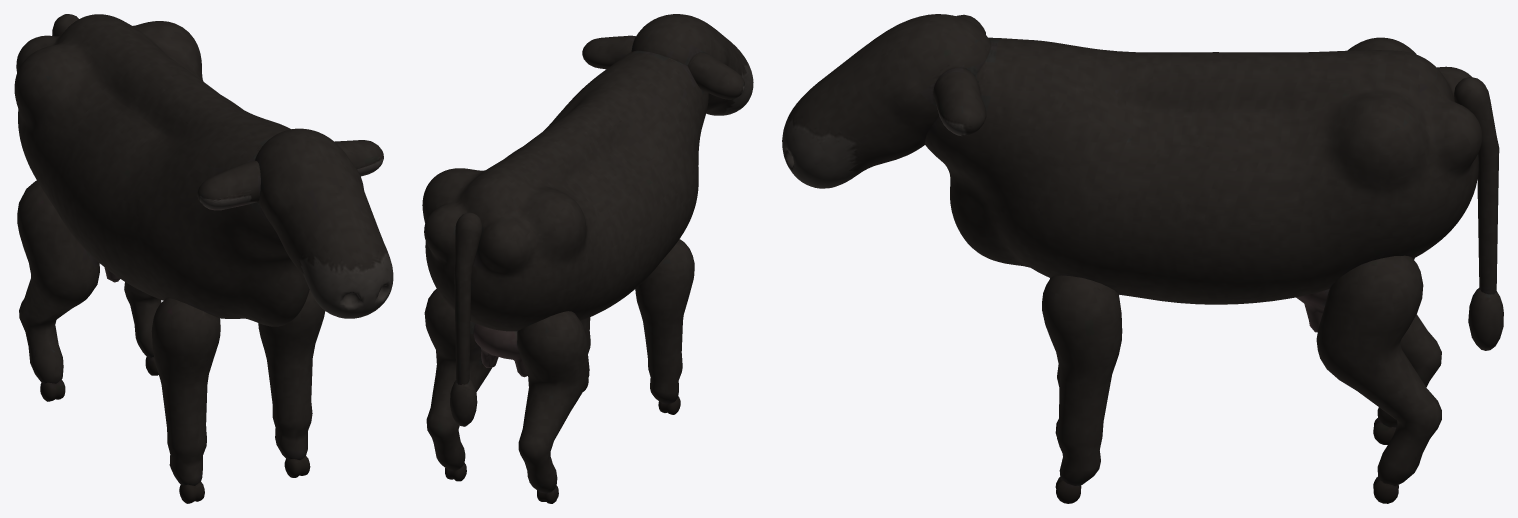
The model's file is animal_angus_cow.glb.
3 renders of one model, left to right at view 1: azimuth 30°, elevation 25°; view 2: azimuth 150°, elevation 25°; view 3: azimuth 270°, elevation 25°, orthographic. The views are drawn at different scales.
Visible parts, largest first — view 1: animal_angus_cow, head, leg2, leg0, leg1, leg3; view 2: animal_angus_cow, leg2, head, leg0, leg3, tail; view 3: animal_angus_cow, head, leg3, leg1, tail, leg2.
Part boxes in pixels (bbox=[...]): animal_angus_cow: bbox=[14, 14, 309, 326]; head: bbox=[197, 128, 393, 318]; leg2: bbox=[17, 180, 99, 401]; leg0: bbox=[151, 298, 220, 503]; leg1: bbox=[258, 290, 325, 477]; leg3: bbox=[124, 282, 161, 375]; animal_angus_cow: bbox=[422, 50, 708, 377]; leg2: bbox=[517, 311, 589, 503]; head: bbox=[582, 14, 753, 115]; leg0: bbox=[635, 239, 694, 414]; leg3: bbox=[424, 288, 491, 481]; tail: bbox=[450, 212, 482, 426]; animal_angus_cow: bbox=[925, 37, 1482, 332]; head: bbox=[782, 14, 990, 188]; leg3: bbox=[1316, 255, 1441, 503]; leg1: bbox=[1042, 275, 1122, 503]; tail: bbox=[1454, 77, 1503, 350]; leg2: bbox=[1373, 258, 1441, 444].
Size of the model in its own units: 0.2778 by 0.5618 by 0.8126.
Materials: 1 (1 with a texture image).
